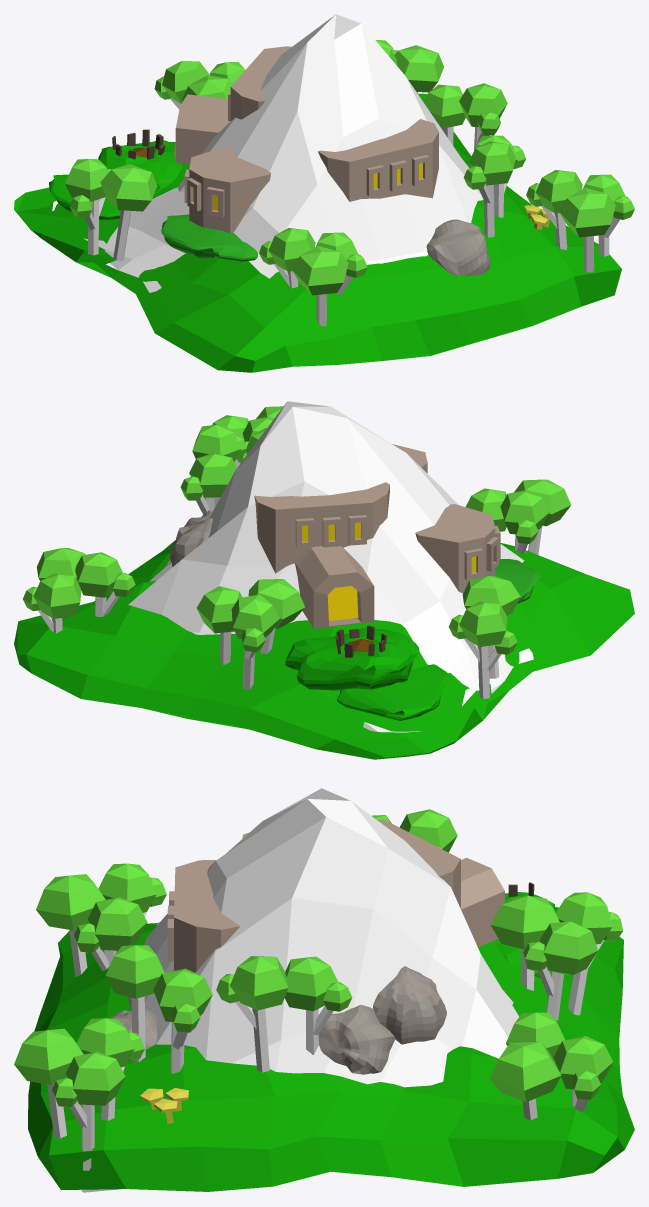
File: forest_birch_mountain.glb
3 views of the same model, one above another, from view 1: azimuth 30°, elevation 25°; view 2: azimuth 150°, elevation 25°; view 3: azimuth 270°, elevation 25° (orthographic). The views are drawn at different scales.
Parts seen in each view (by area): view 1: 0Hill.001, 0Mountain, Cylinder.008, MountainHouseSmall, rock2.010, Entrance.001, bush.021, Sphere.153, Sphere.167, Cylinder.211, Sphere.176, rockplate (+14 smaller); view 2: 0Hill.001, 0Mountain, Cylinder.211, rockplate, MountainHouseSmall, Entrance.001, bush.010, Sphere.178, Sphere.170, Sphere.174, Sphere.160, Sphere.162 (+13 smaller); view 3: 0Hill.001, 0Mountain, Cylinder.008, rock2.009, rock2.011, Sphere.172, Entrance.001, Sphere.153, Sphere.167, Sphere.162, Sphere.190, Sphere.146 (+25 smaller).
Part boxes in pixels (x1,y1,x2,y2): 0Hill.001: [14, 93, 621, 372]; 0Mountain: [52, 14, 527, 334]; Cylinder.008: [318, 119, 438, 201]; MountainHouseSmall: [184, 146, 270, 233]; rock2.010: [426, 219, 490, 275]; Entrance.001: [174, 94, 229, 164]; bush.021: [161, 214, 257, 261]; Sphere.153: [558, 188, 615, 237]; Sphere.167: [291, 246, 348, 295]; Cylinder.211: [228, 46, 291, 121]; Sphere.176: [100, 164, 157, 211]; rockplate: [98, 140, 182, 193]; 0Hill.001: [14, 515, 634, 759]; 0Mountain: [128, 401, 533, 732]; Cylinder.211: [254, 482, 389, 573]; rockplate: [285, 628, 419, 690]; MountainHouseSmall: [415, 504, 500, 593]; Entrance.001: [294, 546, 374, 628]; bush.010: [337, 664, 450, 720]; Sphere.178: [459, 601, 507, 646]; Sphere.170: [33, 573, 81, 618]; Sphere.174: [75, 552, 122, 597]; Sphere.160: [231, 594, 279, 638]; Sphere.162: [248, 579, 305, 628]; 0Hill.001: [28, 923, 634, 1191]; 0Mountain: [81, 788, 518, 1192]; Cylinder.008: [167, 860, 240, 972]; rock2.009: [373, 966, 446, 1044]; rock2.011: [318, 1004, 394, 1074]; Sphere.172: [489, 1041, 561, 1101]; Entrance.001: [461, 857, 504, 947]; Sphere.153: [14, 1028, 83, 1084]; Sphere.167: [36, 874, 105, 930]; Sphere.162: [491, 895, 559, 949]; Sphere.190: [230, 956, 288, 1010]; Sphere.146: [65, 1051, 125, 1105].
Size of the model in its own units: 9.24 by 5.08 by 9.42.
